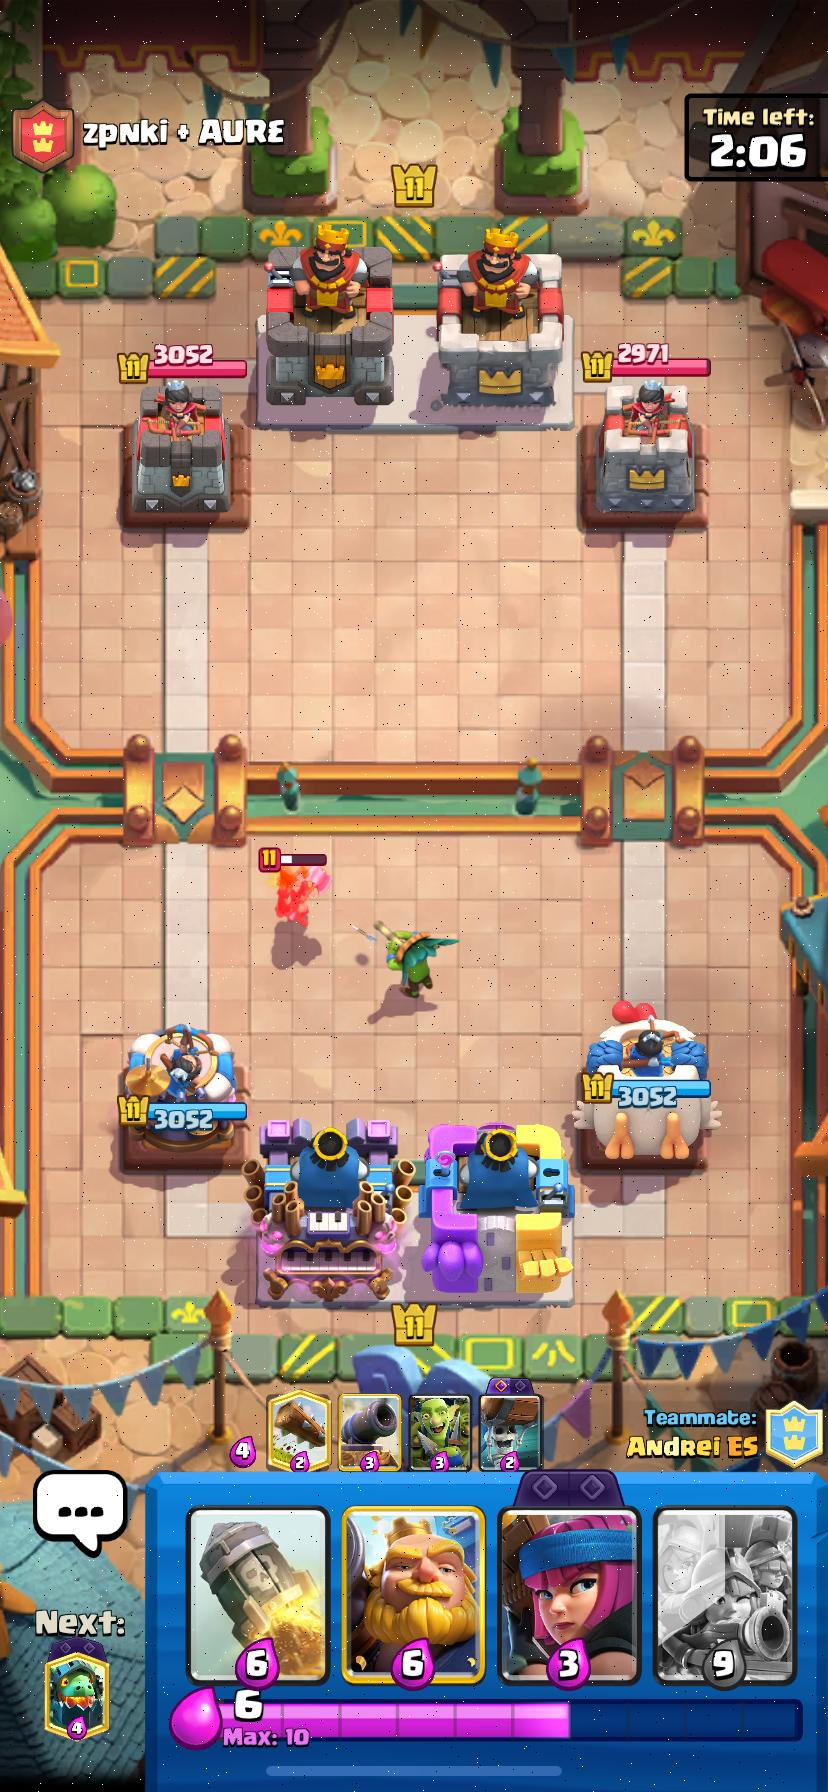EKingTower: (436, 225, 566, 409), (266, 224, 393, 407)
EValk: (276, 865, 329, 930)
EnemyPrincessTower: (579, 381, 706, 527), (124, 379, 247, 525)
ODartGoblin: (374, 922, 457, 998)
OwnKingTower: (247, 1121, 411, 1303), (421, 1123, 573, 1299)
OwnPrincessTower: (575, 1016, 710, 1165), (118, 1024, 246, 1157)
